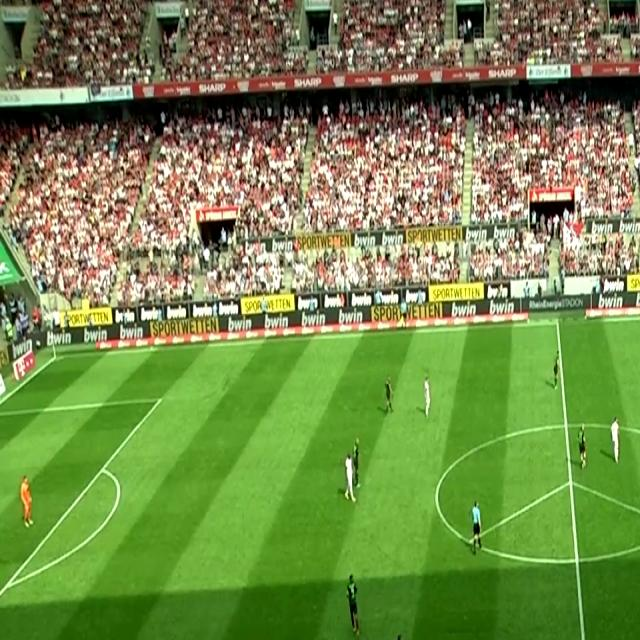goalkeeper: (15, 469, 37, 542)
referee: (467, 494, 485, 556)
soccer-player: (343, 565, 363, 640), (572, 418, 591, 479), (608, 412, 626, 466), (353, 427, 368, 490), (382, 369, 397, 424), (341, 450, 356, 500), (550, 342, 564, 395), (420, 373, 434, 417), (390, 631, 414, 640)
